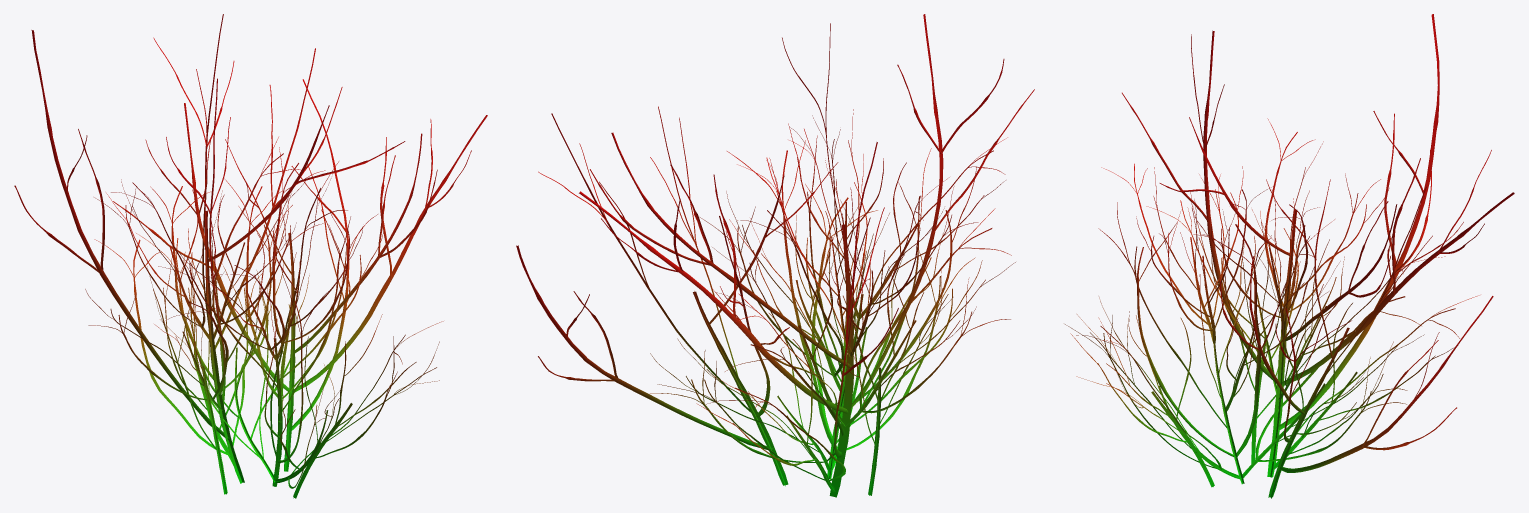
Rendered from Leptadenia_LOD0_Var7_xdkgfgtqx.fbx.
3 views of the same model, side by side, from view 1: azimuth 30°, elevation 25°; view 2: azimuth 150°, elevation 25°; view 3: azimuth 270°, elevation 25° (orthographic). The views are drawn at different scales.
Visible parts, largest first — view 1: _i2jp_Var7_LOD0; view 2: _i2jp_Var7_LOD0; view 3: _i2jp_Var7_LOD0.
Boxes of the visible parts, x1,y1,x2,y2 form: _i2jp_Var7_LOD0: [14, 14, 487, 498]; _i2jp_Var7_LOD0: [516, 14, 1034, 497]; _i2jp_Var7_LOD0: [1065, 14, 1514, 498].
Bounding box in the file's own units: 78.28 × 79.58 × 77.17.
